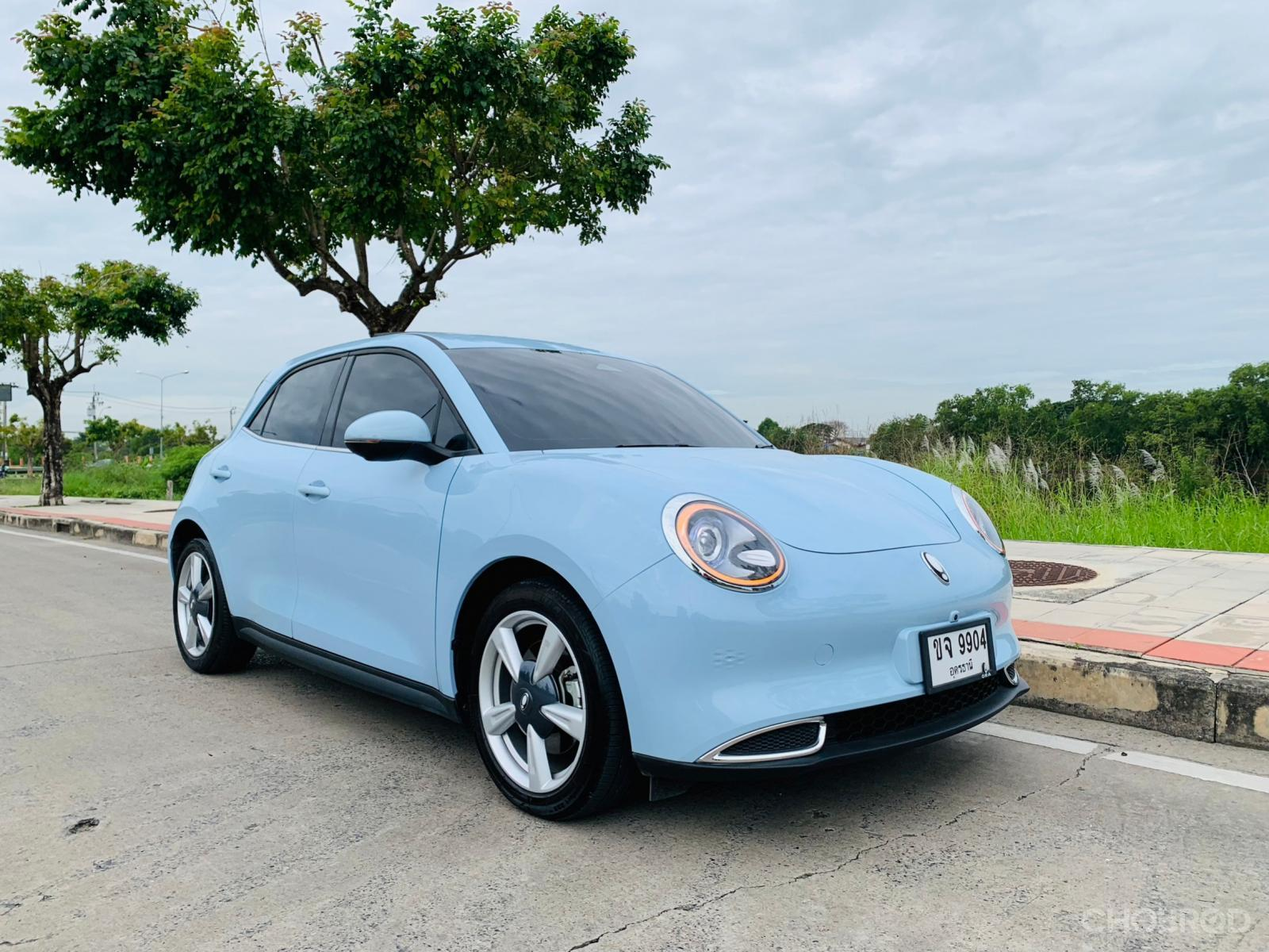license-plate: (918, 617, 997, 697)
